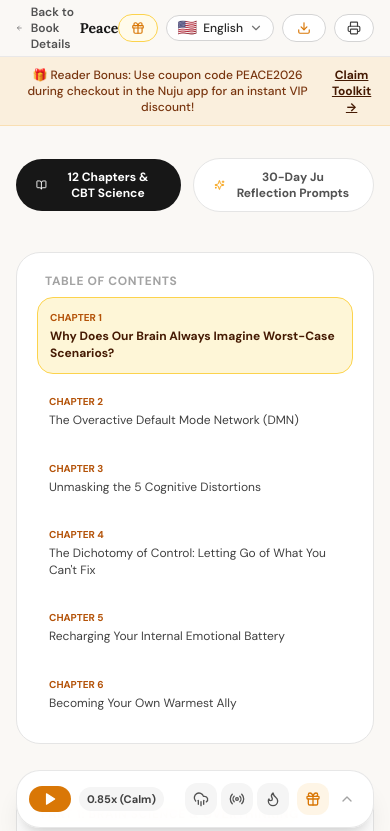
Test: EbookReaderPage Component › switches to the 30-Day Prompt Journal tab and shows day 1 prompt
Click the button "30-Day Ju Reflection Prompts". click: (284, 185)
box: [193,158,374,212]
(page scrolled)
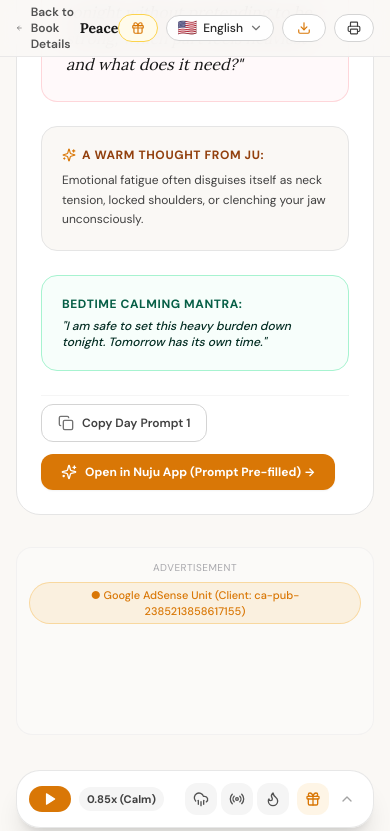
Expected: the text "Copy Day Prompt 1" is shown, [82,414,190,430]
